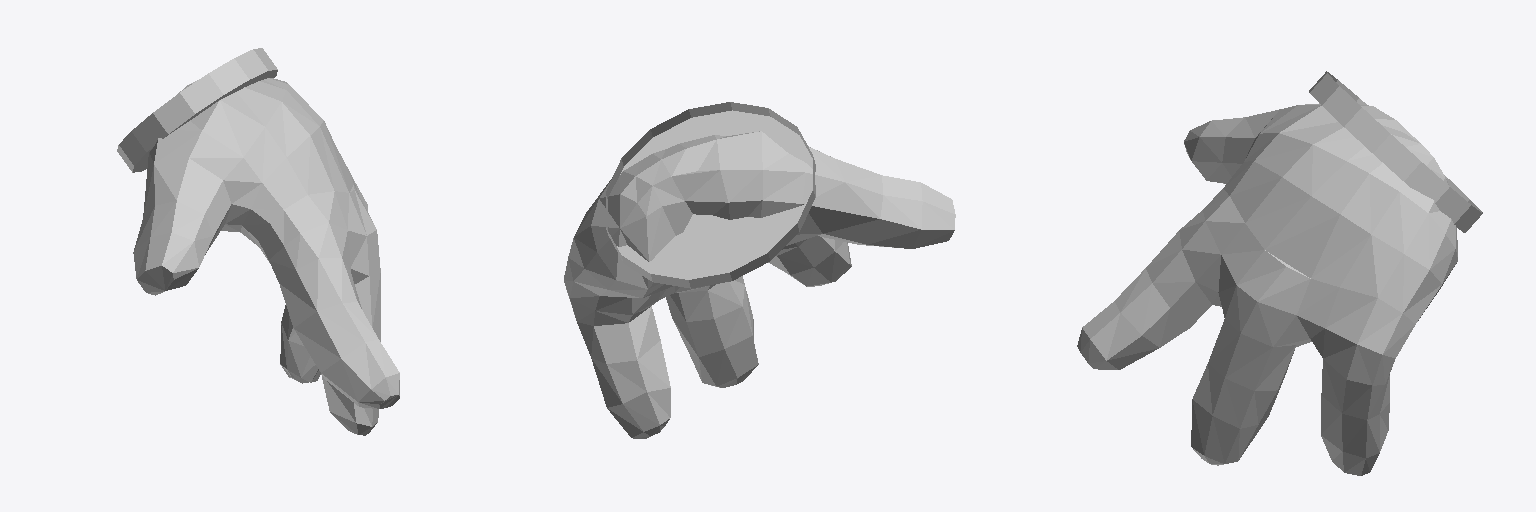
The model's file is lhanddown.obj.
3 renders of one model, left to right at view 1: azimuth 30°, elevation 25°; view 2: azimuth 150°, elevation 25°; view 3: azimuth 270°, elevation 25°, orthographic.
Visible parts, largest first — view 1: al:handL, al:sleaveL1, al:sleaveL; view 2: al:handL, al:sleaveL, al:sleaveL1; view 3: al:handL, al:sleaveL1.
Part boxes in pixels (x1,y1,x2,y2): al:handL: (133,78,399,435); al:sleaveL1: (117,48,277,172); al:sleaveL: (133,70,277,172); al:handL: (564,131,955,438); al:sleaveL: (617,110,812,279); al:sleaveL1: (606,102,815,288); al:handL: (1077,103,1457,475); al:sleaveL1: (1309,71,1482,232).
Bounding box in the file's own units: 0.9734 × 1.06 × 1.12.